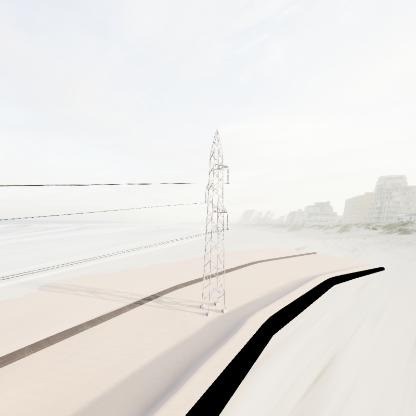tower: (191, 127, 227, 318)
